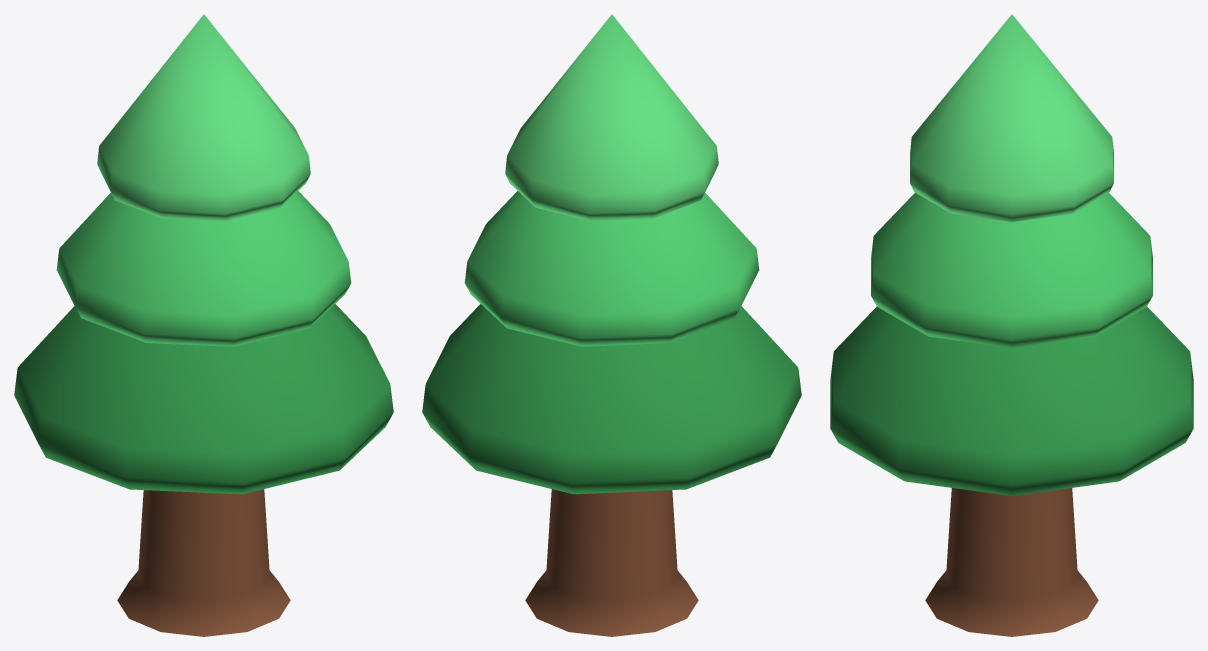
The model's file is tree01.fbx.
3 views of the same model, side by side, from view 1: azimuth 30°, elevation 25°; view 2: azimuth 150°, elevation 25°; view 3: azimuth 270°, elevation 25° (orthographic).
Parts seen in each view (by area): view 1: tree01; view 2: tree01; view 3: tree01.
Boxes of the visible parts, x1=… form: tree01: x1=14, y1=14, x2=393, y2=636; tree01: x1=422, y1=14, x2=801, y2=636; tree01: x1=830, y1=14, x2=1193, y2=636.
Bounding box in the file's own units: 3.97 × 6.73 × 3.78.
1 material, 1 textured.
